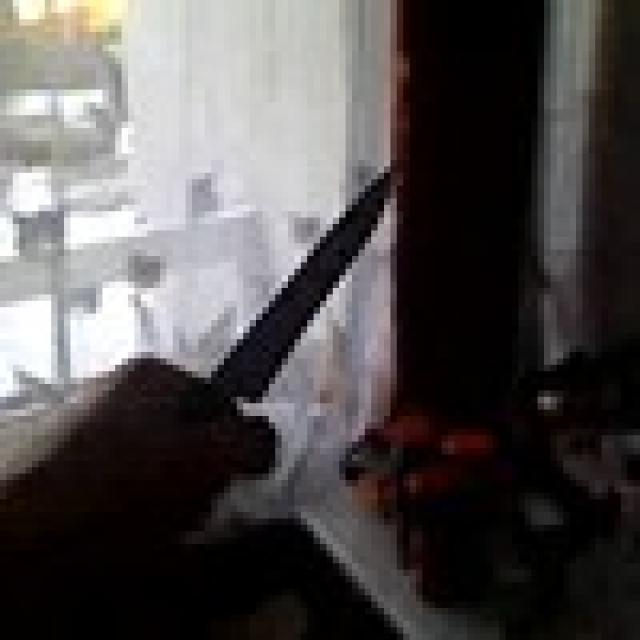weapon: (211, 160, 410, 435)
